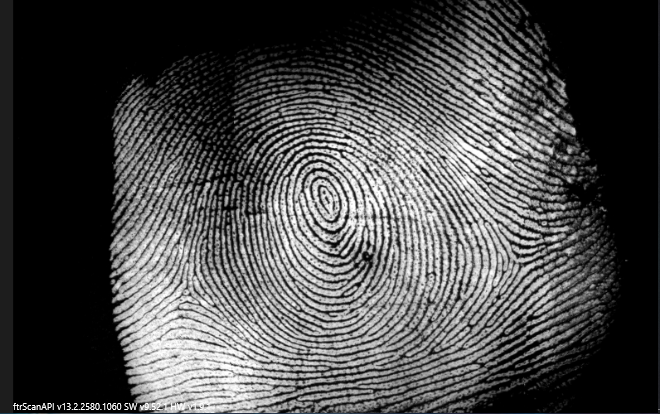nucelo: (306, 179, 342, 221)
verticilo: (499, 251, 527, 275), (174, 281, 197, 307)
